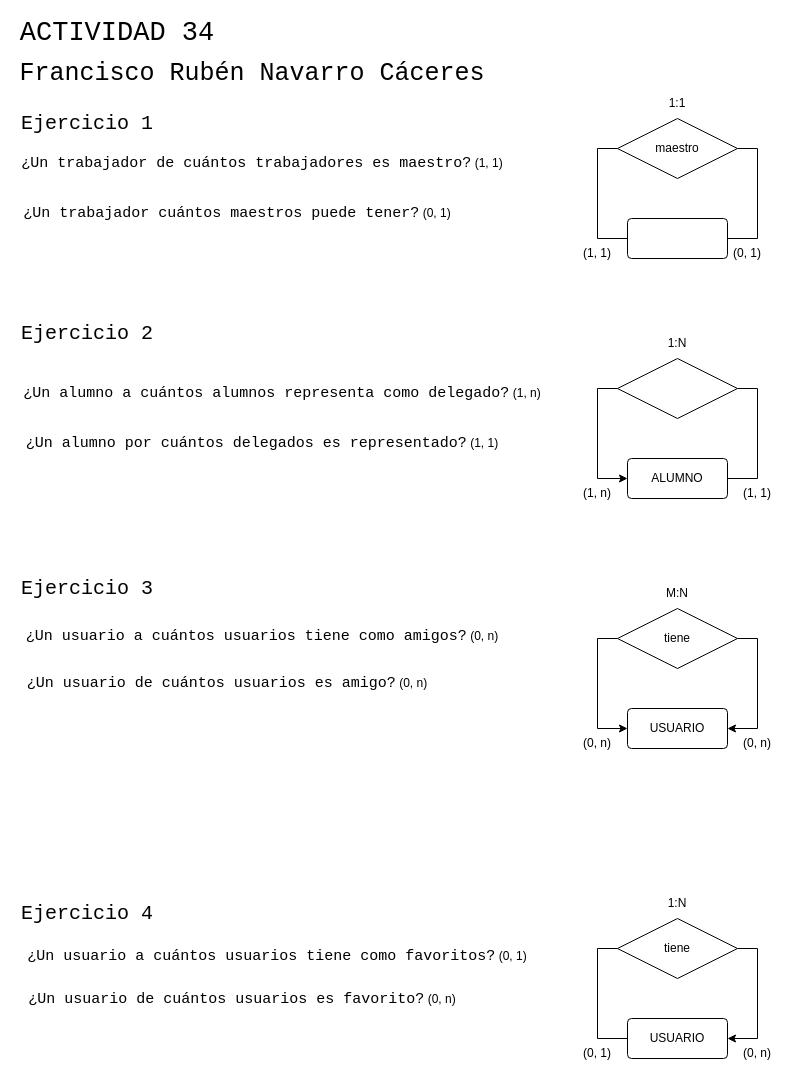
Image size: 804x1085. Some labels were removed from this diagram. The centre of each missing label's shape, as x and y in pixels:
representa: point 677,388
TRABAJADOR: point 677,238
